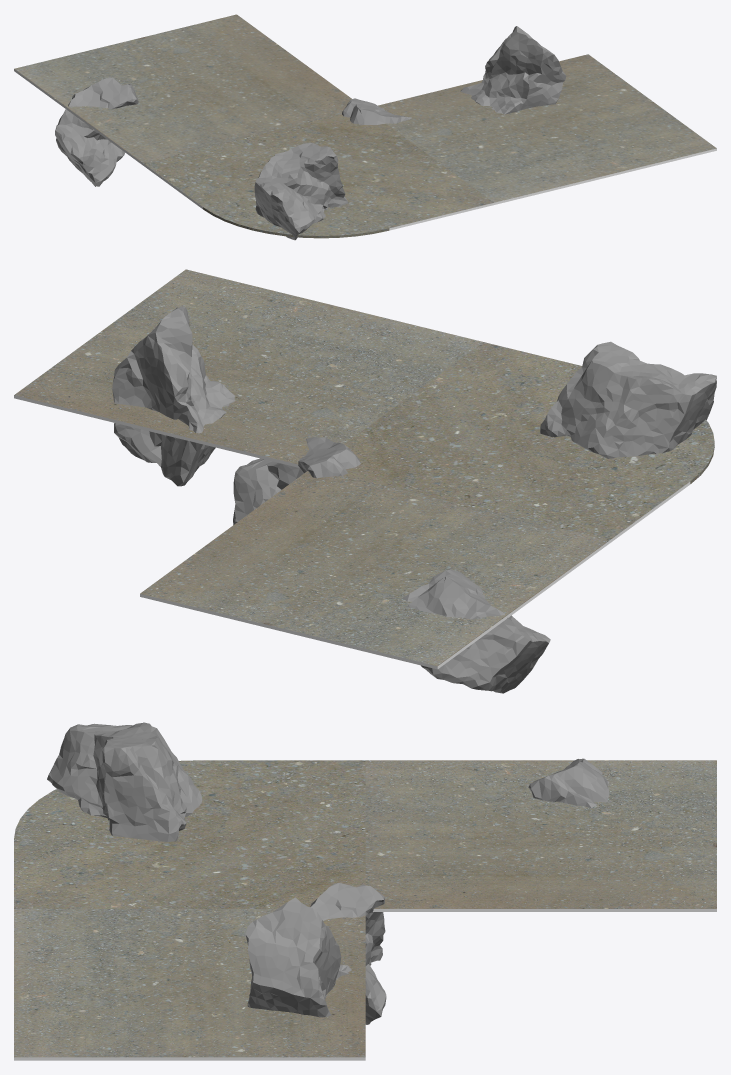
The model's file is turn_right2.fbx.
3 views of the same model, one above another, from view 1: azimuth 30°, elevation 25°; view 2: azimuth 150°, elevation 25°; view 3: azimuth 270°, elevation 25° (orthographic). The views are drawn at different scales.
Visible parts, largest first — view 1: Group4, Group3, Group2, skp830C2, skp830C1, skp830C4, skp830C3; view 2: Group4, Group3, Group2, skp830C2, skp830C1, skp830C4, skp830C3; view 3: Group4, Group3, Group2, skp830C2, skp830C1, skp830C3, skp830C4.
Part boxes in pixels (<box>): Group4: <box>14,14,351,164</box>; Group3: <box>378,54,716,204</box>; Group2: <box>142,114,493,238</box>; skp830C2: <box>254,142,348,240</box>; skp830C1: <box>460,26,566,114</box>; skp830C4: <box>55,77,138,186</box>; skp830C3: <box>342,98,411,124</box>; Group4: <box>140,471,609,669</box>; Group3: <box>14,269,483,467</box>; Group2: <box>343,342,714,542</box>; skp830C2: <box>540,341,716,458</box>; skp830C1: <box>112,306,234,486</box>; skp830C4: <box>403,569,550,693</box>; skp830C3: <box>233,437,360,524</box>; Group4: <box>365,760,716,911</box>; Group3: <box>14,909,365,1060</box>; Group2: <box>14,760,365,908</box>; skp830C2: <box>47,722,201,841</box>; skp830C1: <box>245,897,351,1017</box>; skp830C3: <box>310,883,386,1024</box>; skp830C4: <box>528,758,609,808</box>.
Size of the model in its own units: 2065 by 604 by 2000.
